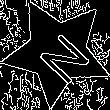N_NW: (25, 20, 89, 83)
